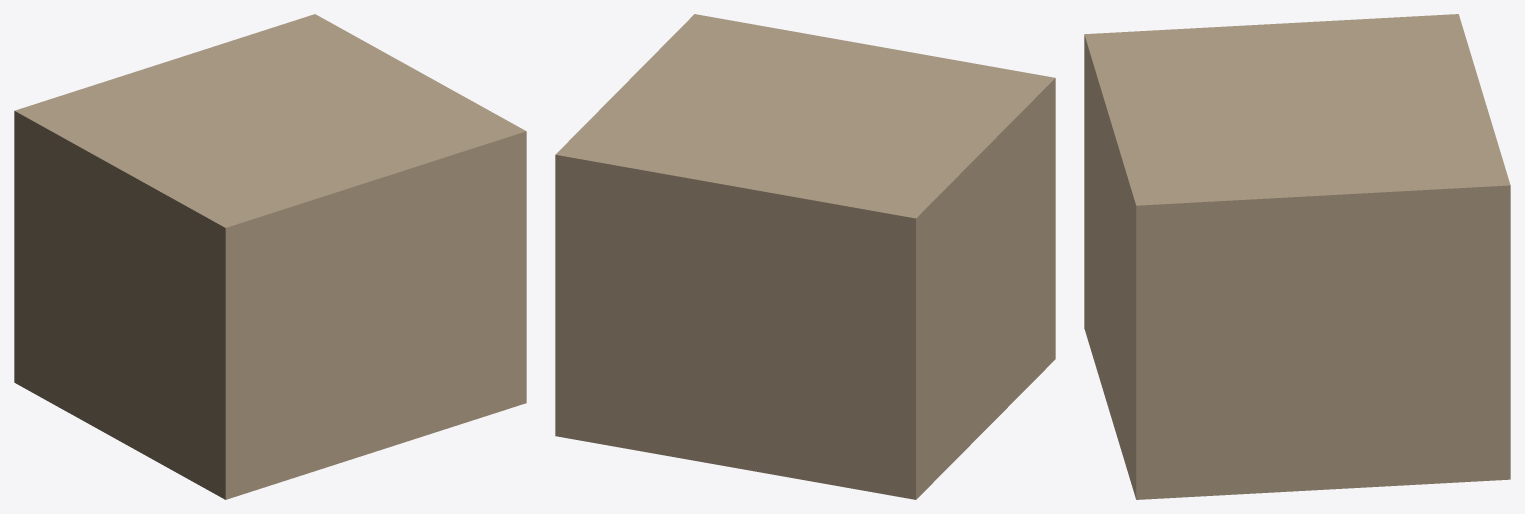
Rendered from bld_107639211.dae.
The picture shows the model from 3 angles, left to right: view 1: azimuth 30°, elevation 25°; view 2: azimuth 150°, elevation 25°; view 3: azimuth 270°, elevation 25°; orthographic projection. The views are drawn at different scales.
Parts seen in each view (by area): view 1: bld_107639211; view 2: bld_107639211; view 3: bld_107639211.
Boxes of the visible parts, bbox=[...] form: bld_107639211: bbox=[14, 14, 526, 499]; bld_107639211: bbox=[555, 14, 1055, 499]; bld_107639211: bbox=[1084, 14, 1510, 499].
Size of the model in its own units: 11.18 by 10.5 by 8.
